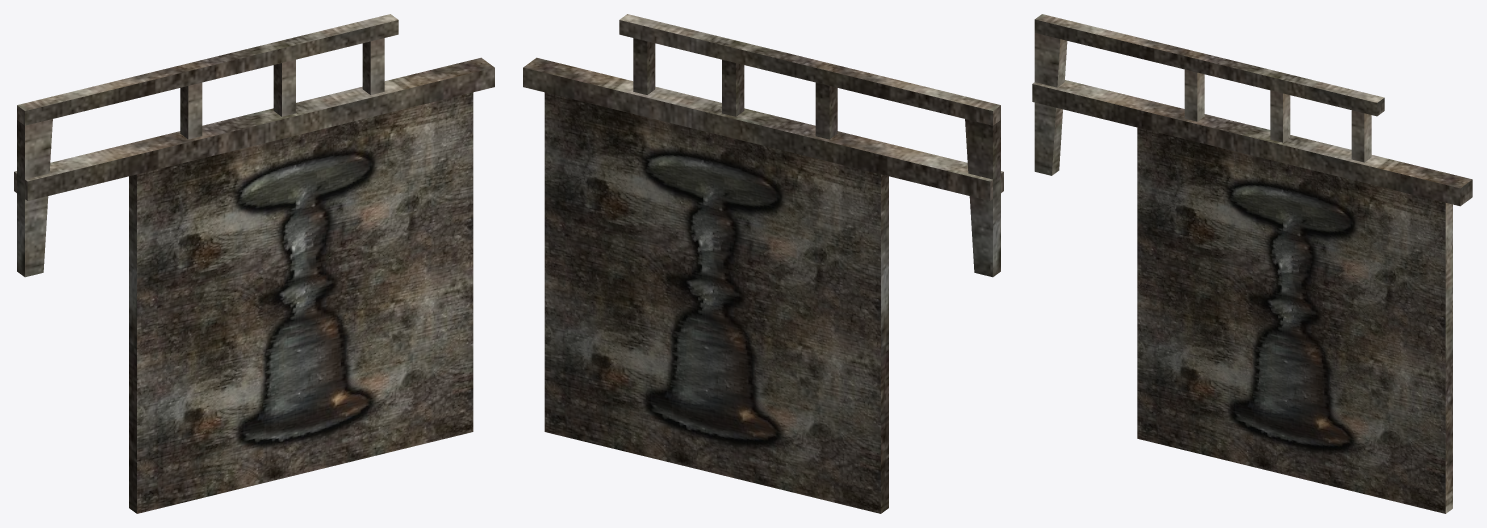
File: signs_priest1.glb
3 views of the same model, side by side, from view 1: azimuth 30°, elevation 25°; view 2: azimuth 150°, elevation 25°; view 3: azimuth 330°, elevation 25° (orthographic). The views are drawn at different scales.
Visible parts, largest first — view 1: priest1; view 2: priest1; view 3: priest1.
Boxes of the visible parts, <box> form: priest1: <box>14,14,494,513</box>; priest1: <box>523,14,1003,513</box>; priest1: <box>1032,14,1472,513</box>.
Bounding box in the file's own units: 3.12 × 2.75 × 0.1562.
2 materials, 2 textured.
